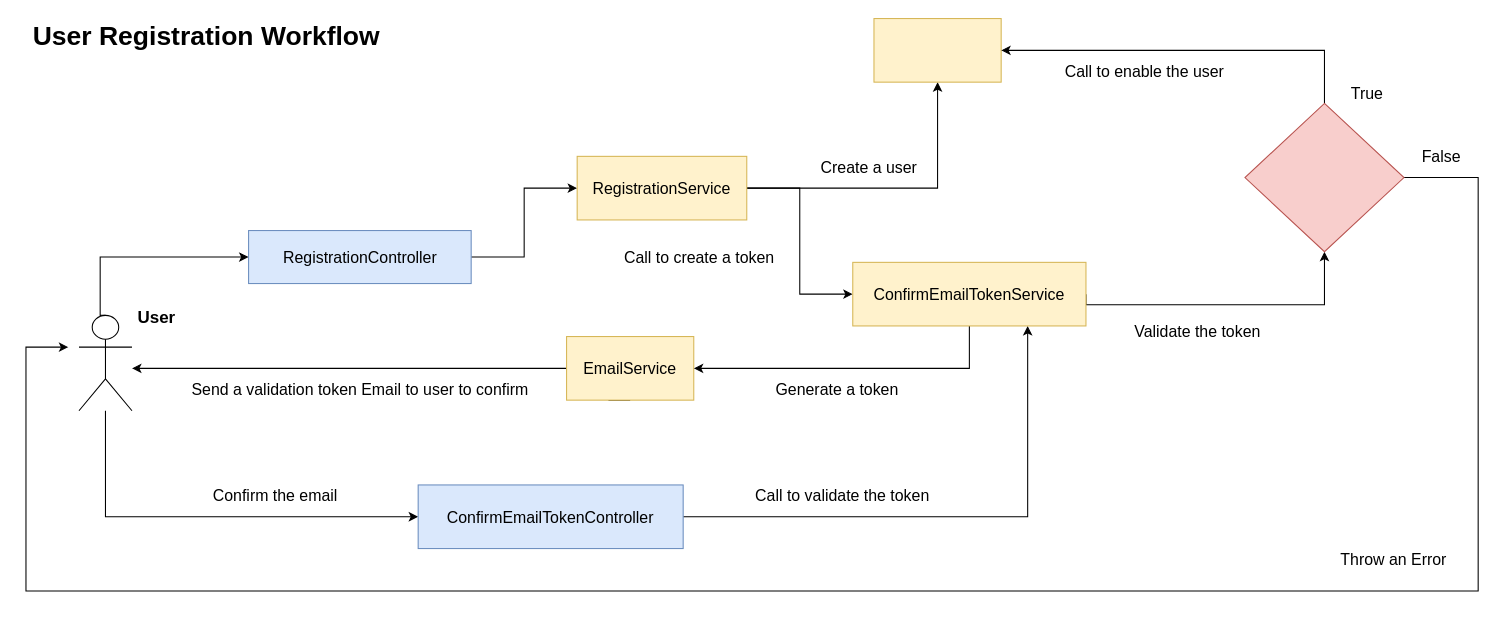
Some shapes in this 1505 by 618 pixel diagram are drawn without their labels. Each missing label, with the centre of its shape:
is token valid?: (x=1324, y=177)
UserService: (x=937, y=49)
